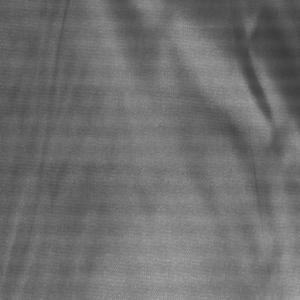Wrinkle: (106, 1, 300, 300), (1, 1, 85, 300)
